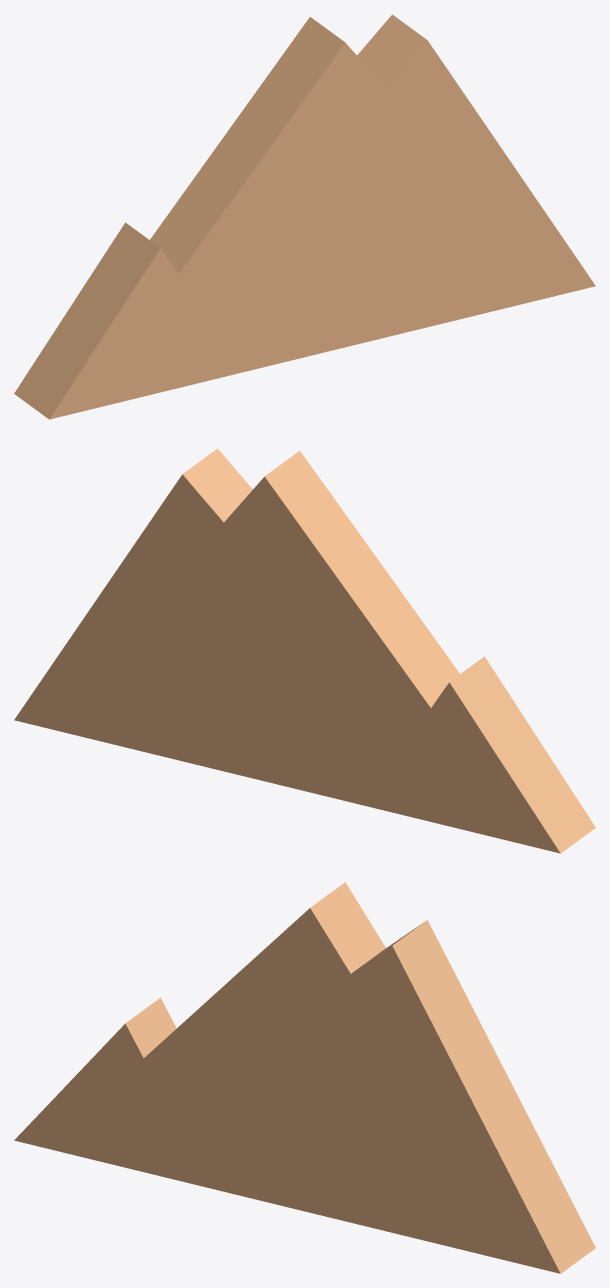
The model's file is iso.glb.
3 views of the same model, one above another, from view 1: azimuth 30°, elevation 25°; view 2: azimuth 150°, elevation 25°; view 3: azimuth 330°, elevation 25° (orthographic).
Parts seen in each view (by area): view 1: geometry_0; view 2: geometry_0; view 3: geometry_0.
Boxes of the visible parts, <box> form: geometry_0: <box>14,14,595,419</box>; geometry_0: <box>14,448,595,853</box>; geometry_0: <box>14,882,595,1273</box>.
Size of the model in its own units: 1 by 0.5329 by 0.1118.
